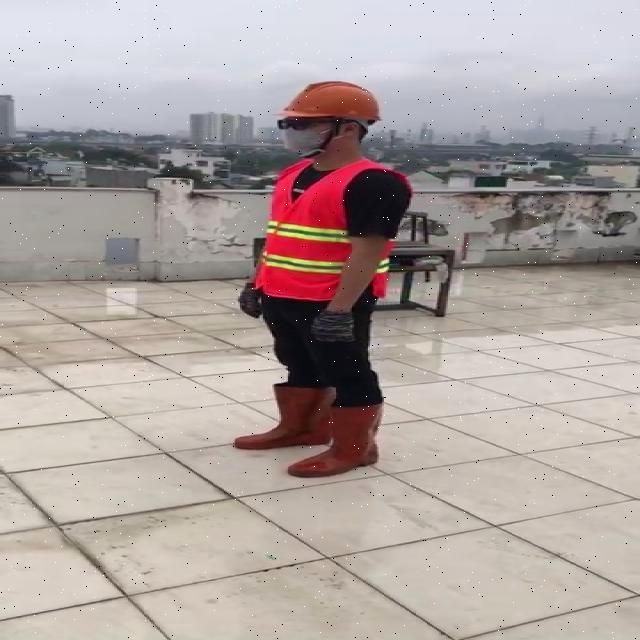Hard_hat: (271, 81, 388, 136)
Vest: (258, 155, 355, 303)
